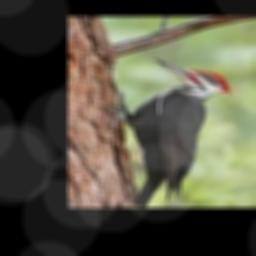Woodpecker: (102, 58, 232, 207)
